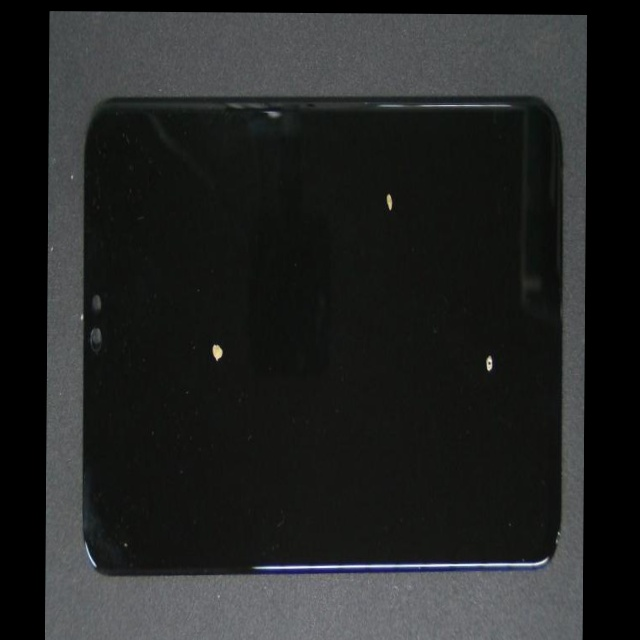stain: (272, 157, 586, 515), (220, 77, 553, 271), (144, 163, 292, 498)
